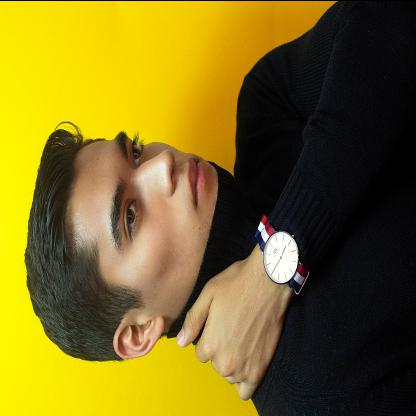Eye: (123, 194, 141, 241), (129, 139, 146, 166)
Mouth: (187, 155, 205, 209)
Nose: (134, 147, 176, 196)
